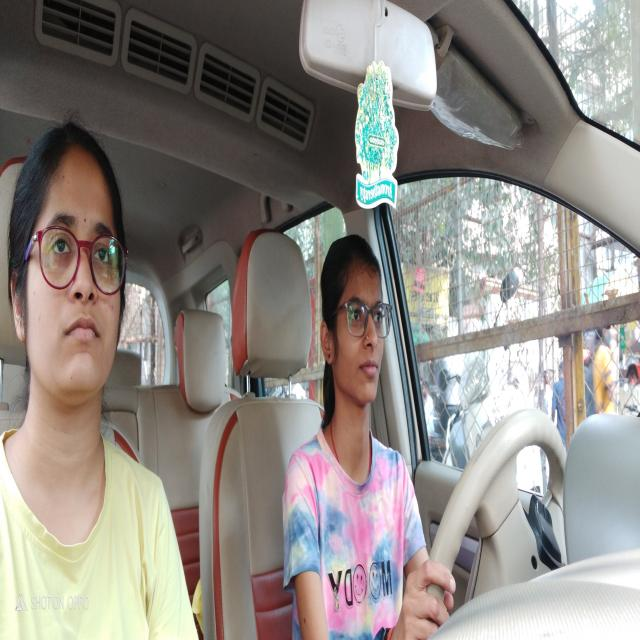person: (7, 114, 130, 430), (311, 231, 399, 430)
